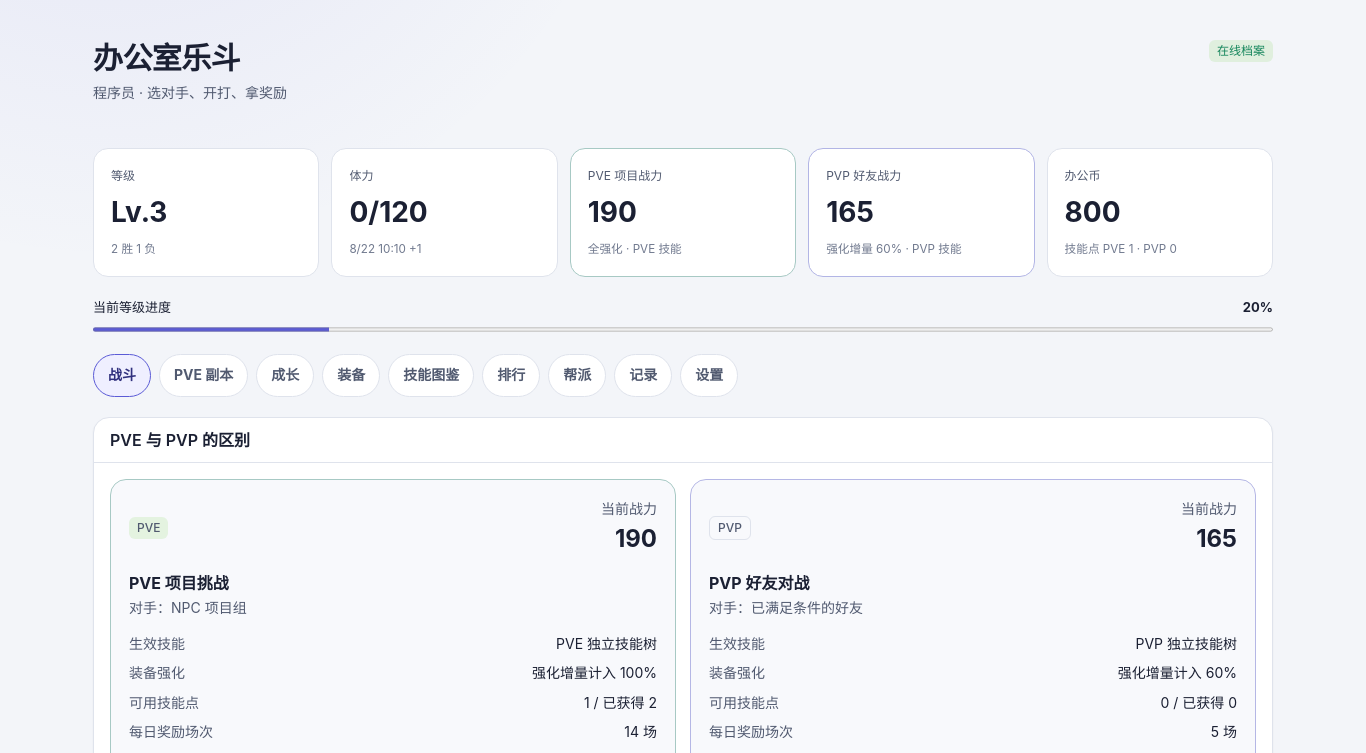
Test case: CommunityBattlePage formal archive › uses service data, blocks a rewarded action at zero energy and never writes the guest save
Expected: the heading "办公室乐斗" is shown, [93, 40, 240, 76]
Expected: the text "程序员 · 选对手、开打、拿奖励" is shown, [93, 82, 287, 104]
Click the tab "PVE 副本". click: {"x": 204, "y": 376}
box: [159, 354, 248, 397]
(page scrolled)
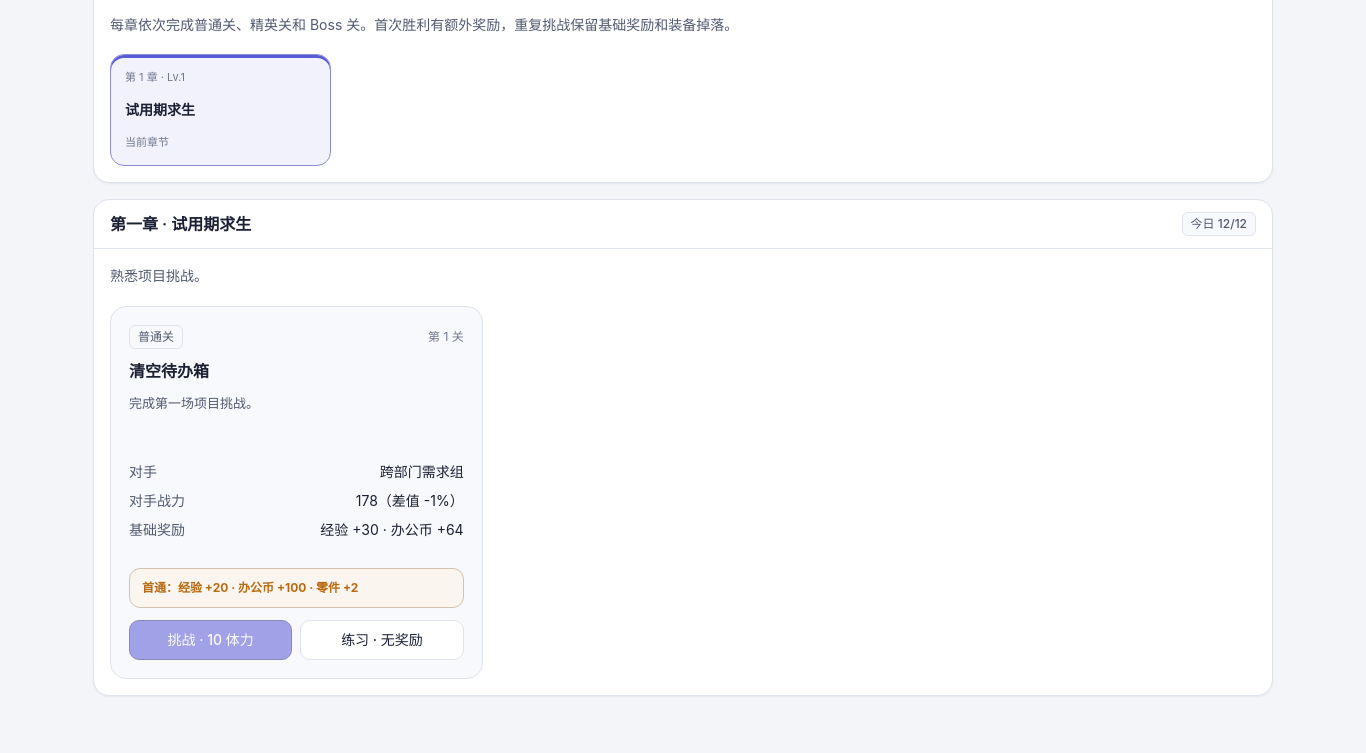
Expected: the button "挑战 · 10 体力" is disabled, [129, 620, 292, 660]
Expected: the button "练习 · 无奖励" is enabled, [300, 620, 464, 660]
